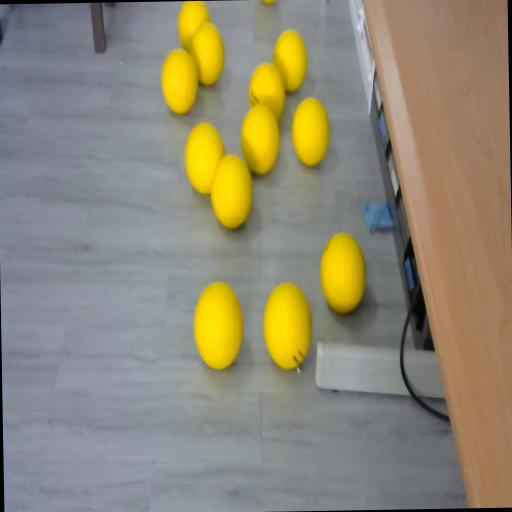FUEL: (192, 280, 244, 370), (262, 280, 314, 370), (320, 232, 366, 312), (209, 152, 254, 230), (240, 104, 282, 174), (291, 96, 331, 166), (161, 48, 199, 114), (190, 22, 226, 86), (273, 28, 308, 93)
